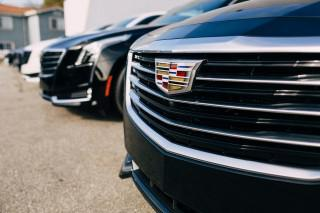cadillac: (150, 51, 210, 101)
